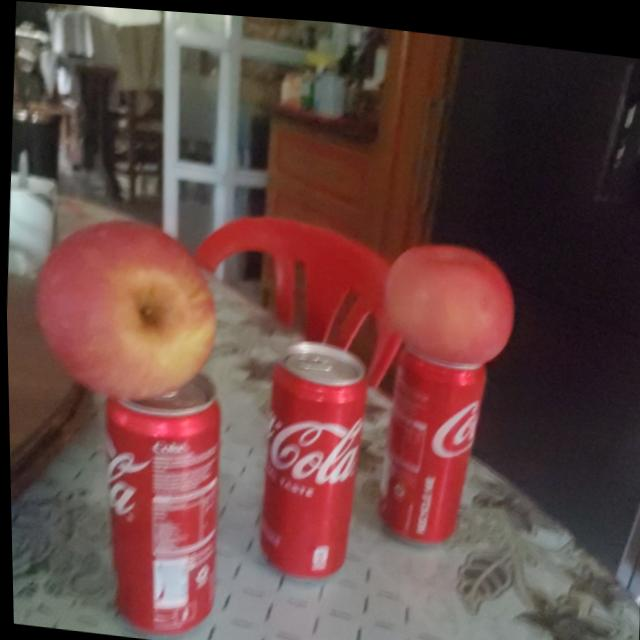apple: (31, 209, 222, 409), (372, 233, 514, 364)
coke: (91, 367, 227, 638), (254, 337, 370, 585), (369, 337, 489, 550)
